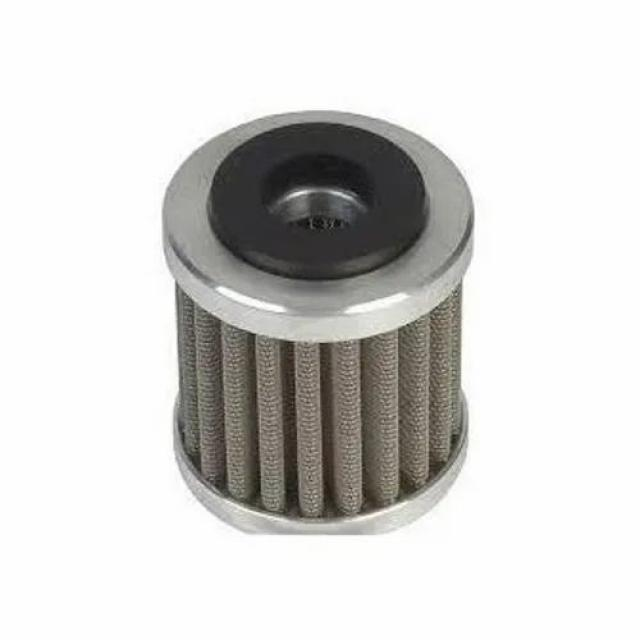oil_filter: (156, 100, 481, 547)
